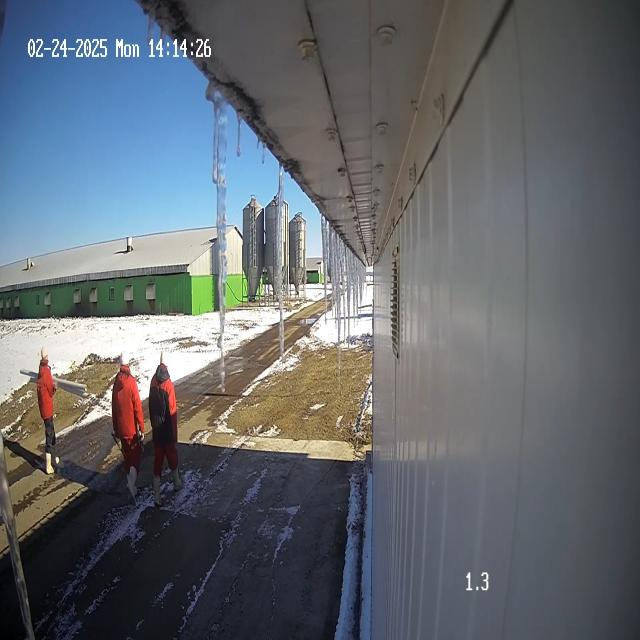Red uniform: (148, 363, 182, 507), (112, 353, 144, 500), (36, 348, 57, 473)
